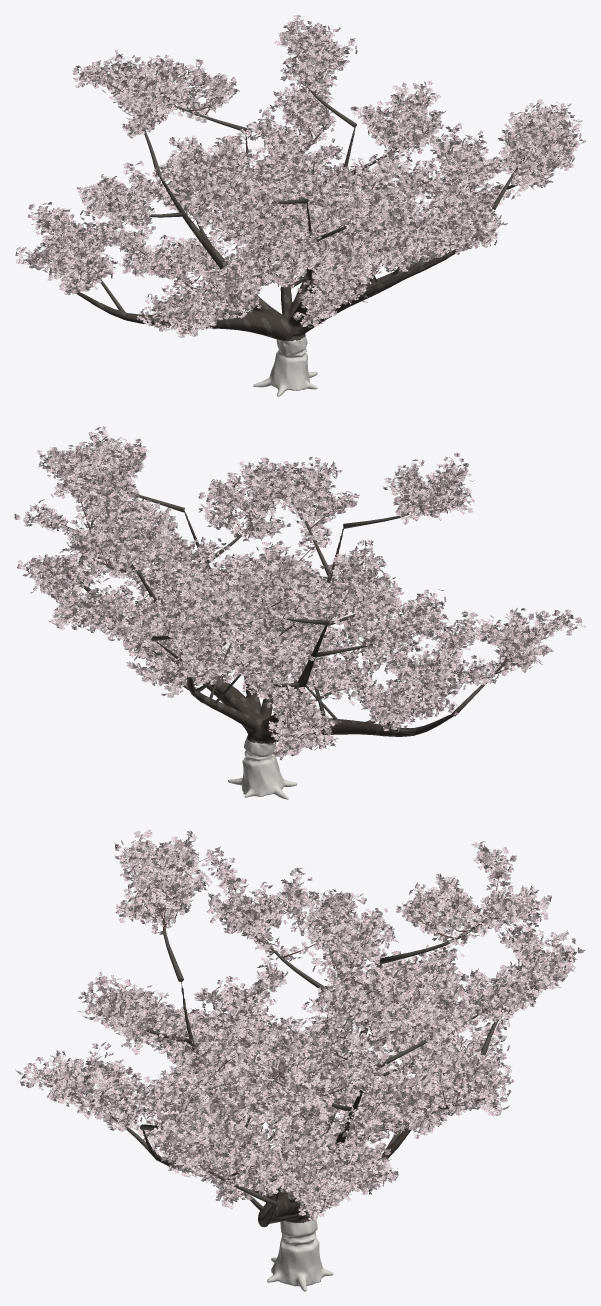
Rendered from guanghua-cherry-middle.glb.
3 views of the same model, one above another, from view 1: azimuth 30°, elevation 25°; view 2: azimuth 150°, elevation 25°; view 3: azimuth 270°, elevation 25° (orthographic). The views are drawn at different scales.
Visible parts, largest first — view 1: V6 East spreading 01 leaves middle, Spring cherry aged branching skeleton; view 2: V6 East spreading 01 leaves middle, Spring cherry aged branching skeleton; view 3: V6 East spreading 01 leaves middle, Spring cherry aged branching skeleton.
Boxes of the visible parts, left/top/right/bottom form: V6 East spreading 01 leaves middle: left=15, top=14, right=585, bottom=337; Spring cherry aged branching skeleton: left=21, top=20, right=578, bottom=396; V6 East spreading 01 leaves middle: left=14, top=426, right=585, bottom=760; Spring cherry aged branching skeleton: left=26, top=432, right=581, bottom=799; V6 East spreading 01 leaves middle: left=15, top=829, right=585, bottom=1220; Spring cherry aged branching skeleton: left=34, top=839, right=575, bottom=1291.
Bounding box in the file's own units: 10.85 × 5.85 × 8.24.
7 materials, 3 textured.
